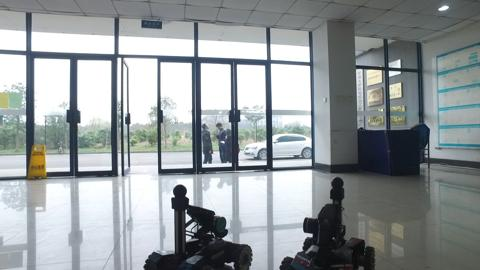chariot: (145, 183, 255, 270), (278, 177, 377, 268)
